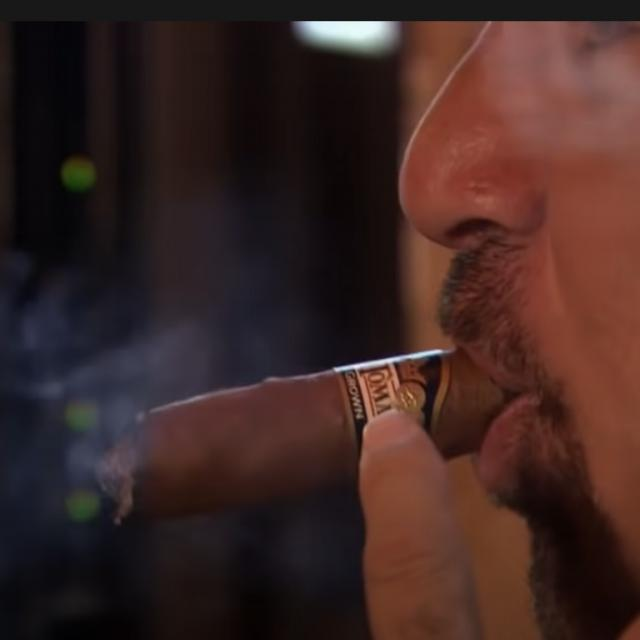cigarette: (92, 384, 357, 530)
